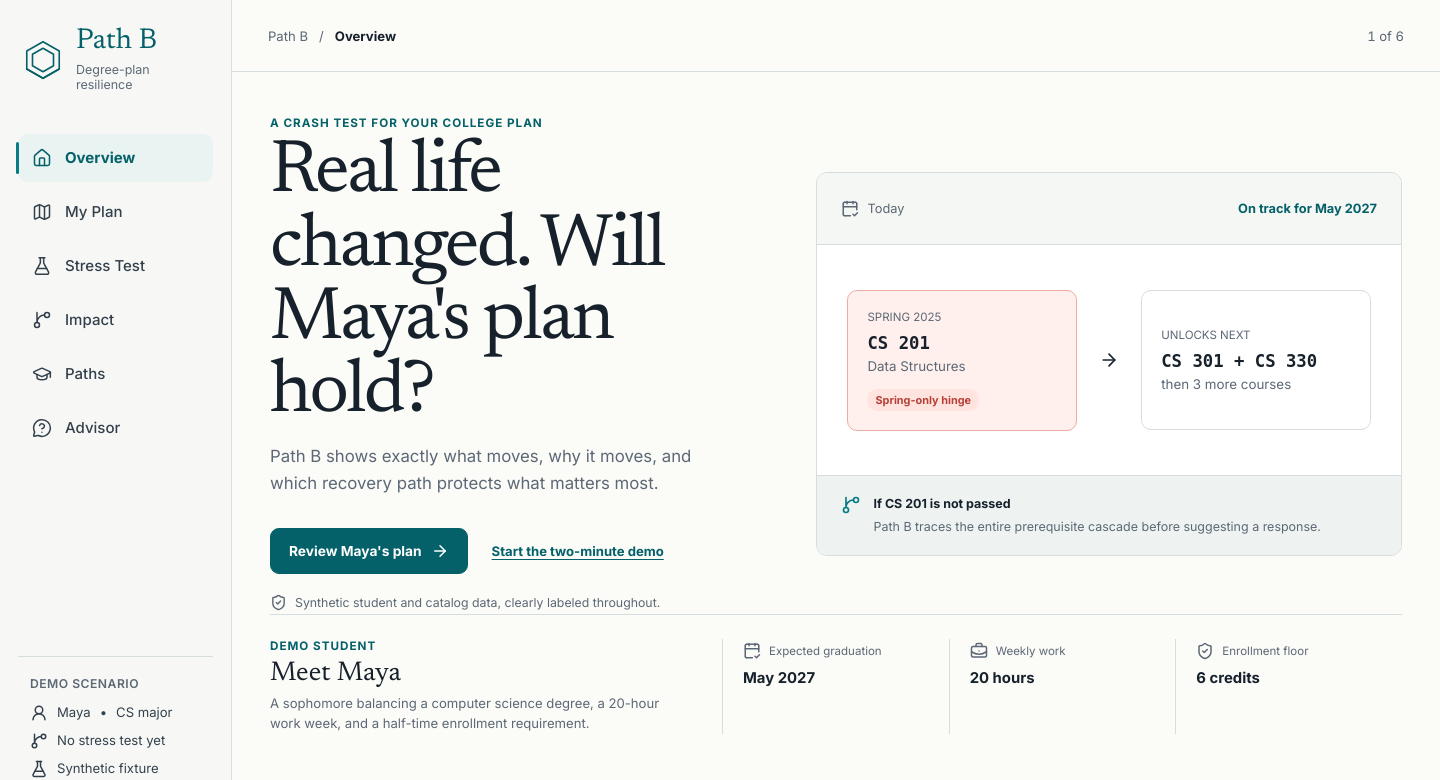
App › runs the stress test, persists intent, and focuses the impact
Step 1. Click the link "Start the two-minute demo" → (578, 551), box [492,543,664,559]
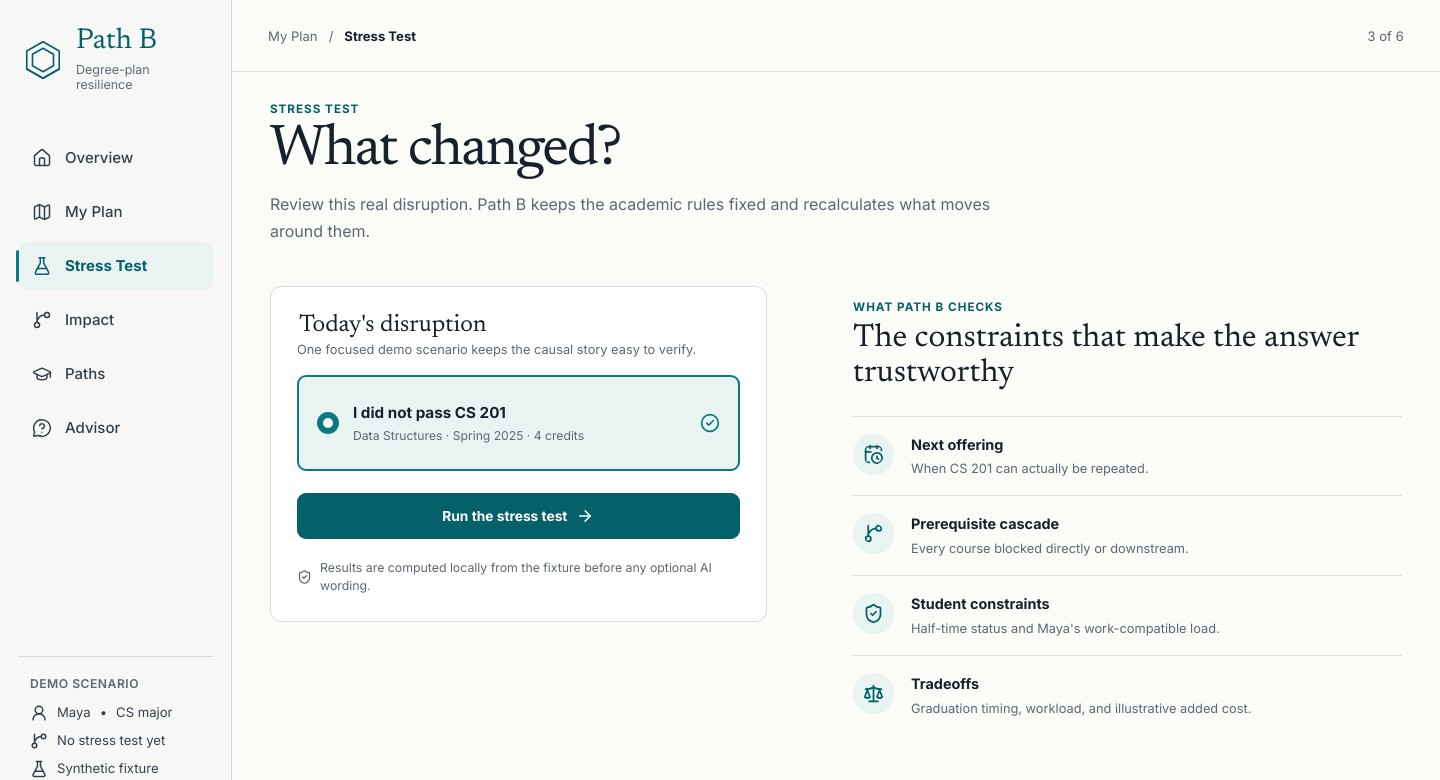
Expected: the radio button labelled "I did not pass CS 201" is checked, [297,375,740,471]
Step 2. Click the button "Run the stress test" → (518, 516), box [297,493,740,539]
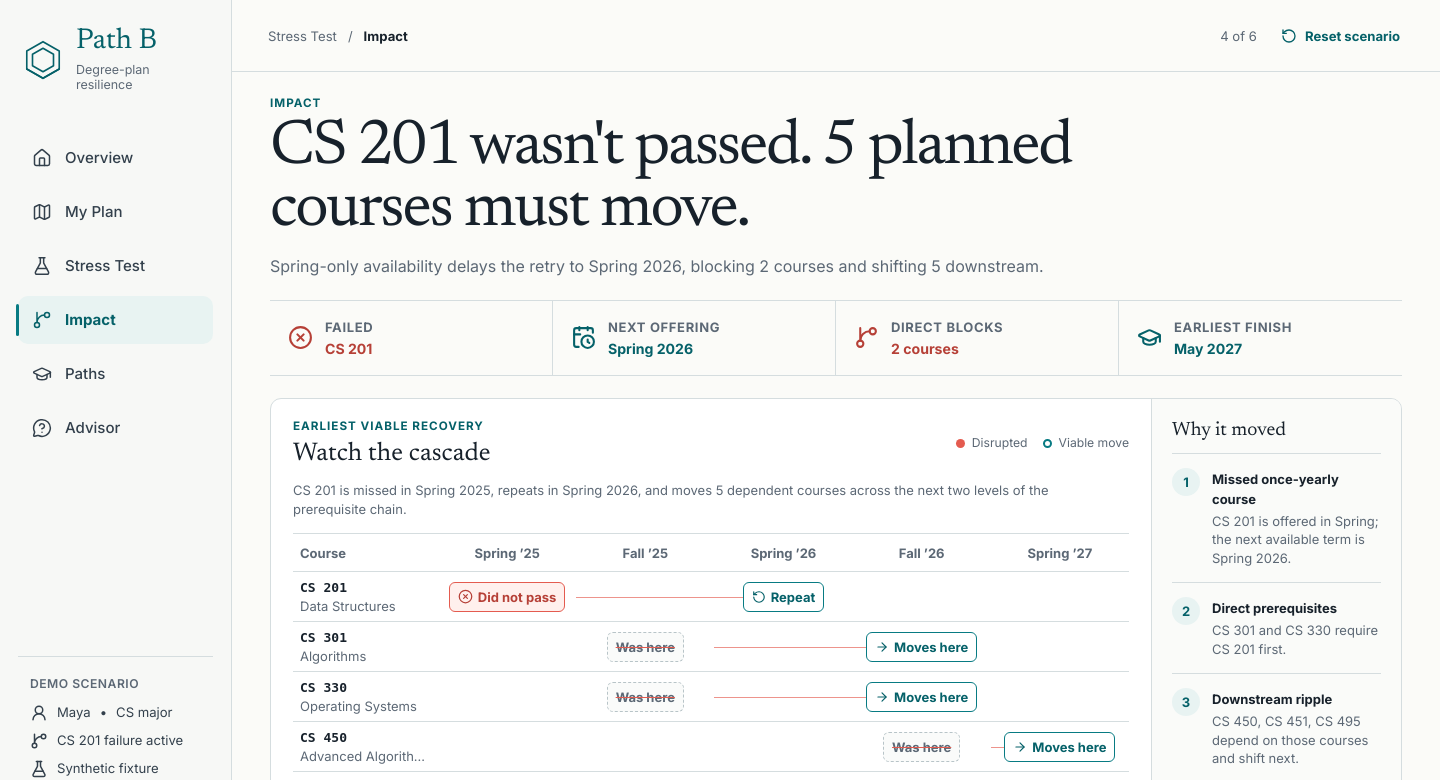
Expected: the text "2 courses" is shown, [891,340,959,356]
